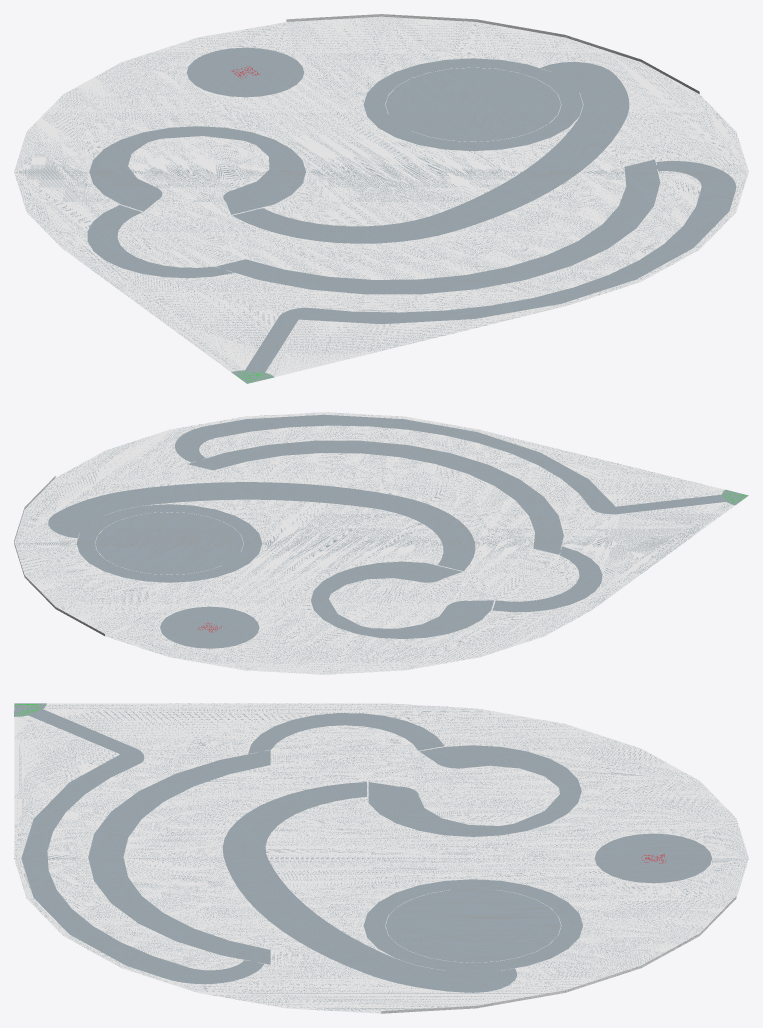
The model's file is Smile-mini2.fbx.
The picture shows the model from 3 angles, top to bottom: view 1: azimuth 30°, elevation 25°; view 2: azimuth 150°, elevation 25°; view 3: azimuth 270°, elevation 25°; orthographic projection. The views are drawn at different scales.
Visible parts, largest first — view 1: Model; view 2: Model; view 3: Model.
Part boxes in pixels (x1,y1,x2,y2): Model: (14,14,748,383); Model: (14,412,748,674); Model: (14,703,748,1013).
Size of the model in its own units: 250 by 1 by 250.
